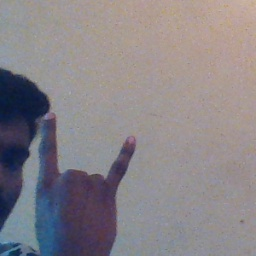V: (32, 110, 141, 256)
